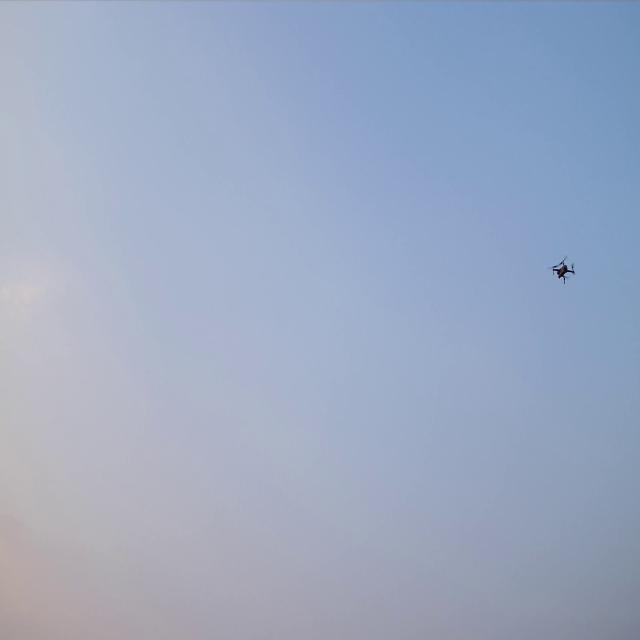UAV: (549, 256, 576, 284)
